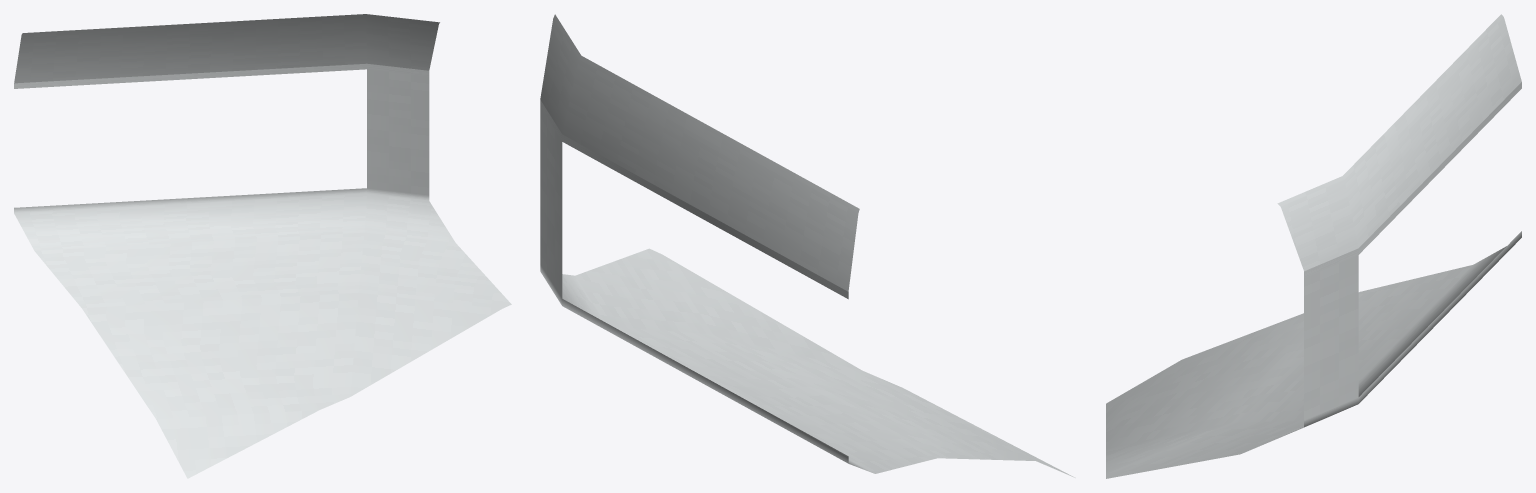
The model's file is spheroid_medium_band_shell_2.obj.
3 views of the same model, side by side, from view 1: azimuth 30°, elevation 25°; view 2: azimuth 150°, elevation 25°; view 3: azimuth 270°, elevation 25° (orthographic). The views are drawn at different scales.
Visible parts, largest first — view 1: spheroid_medium_band_shell_2; view 2: spheroid_medium_band_shell_2; view 3: spheroid_medium_band_shell_2.
Boxes of the visible parts, x1=… form: spheroid_medium_band_shell_2: x1=14, y1=14, x2=511, y2=478; spheroid_medium_band_shell_2: x1=540, y1=14, x2=1075, y2=477; spheroid_medium_band_shell_2: x1=1106, y1=14, x2=1521, y2=478.
Bounding box in the file's own units: 3 × 2.87 × 2.78.
